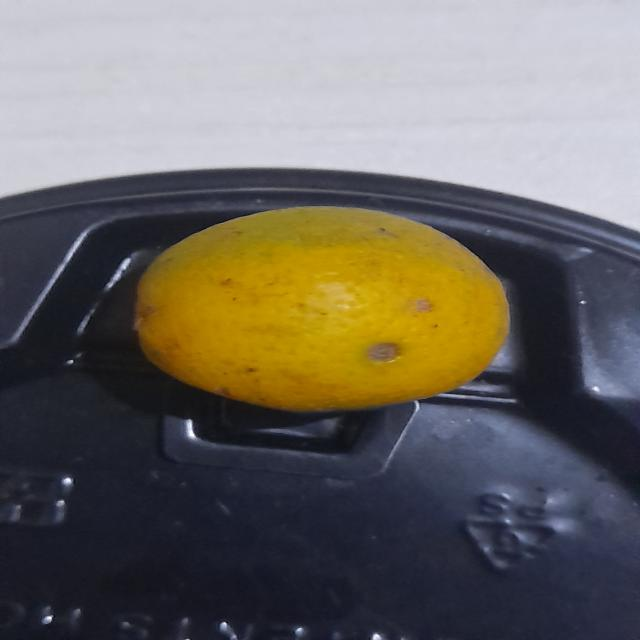black spot: (134, 194, 509, 425)
